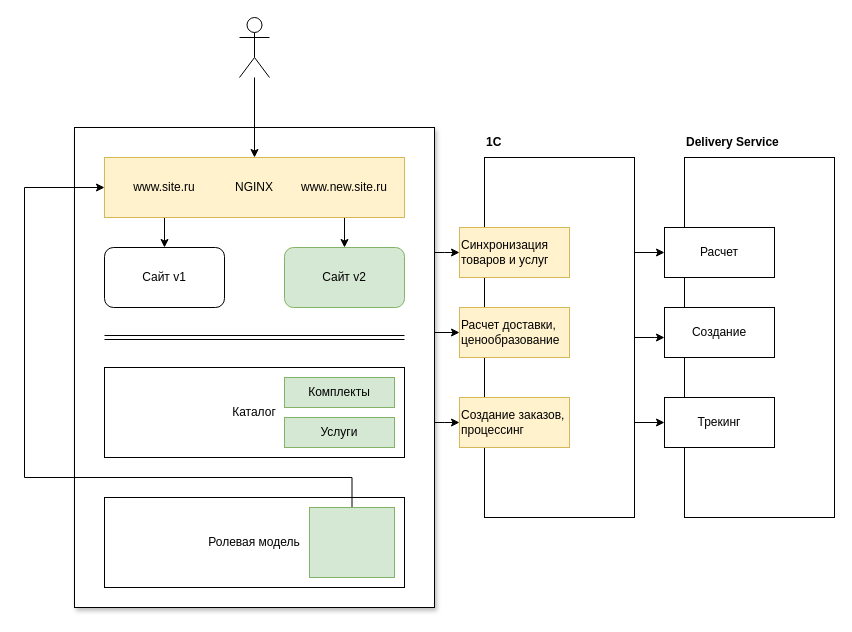
Some shapes in this 852 by 632 pixel diagram are drawn without their labels. The shapes that lost their labels are listed below. From the top down, each one's centre as x and y in pixels, then its label:
point 254,47: Посетитель
point 351,542: Для тех кто не в списке: Forbidden 403 Redirect
